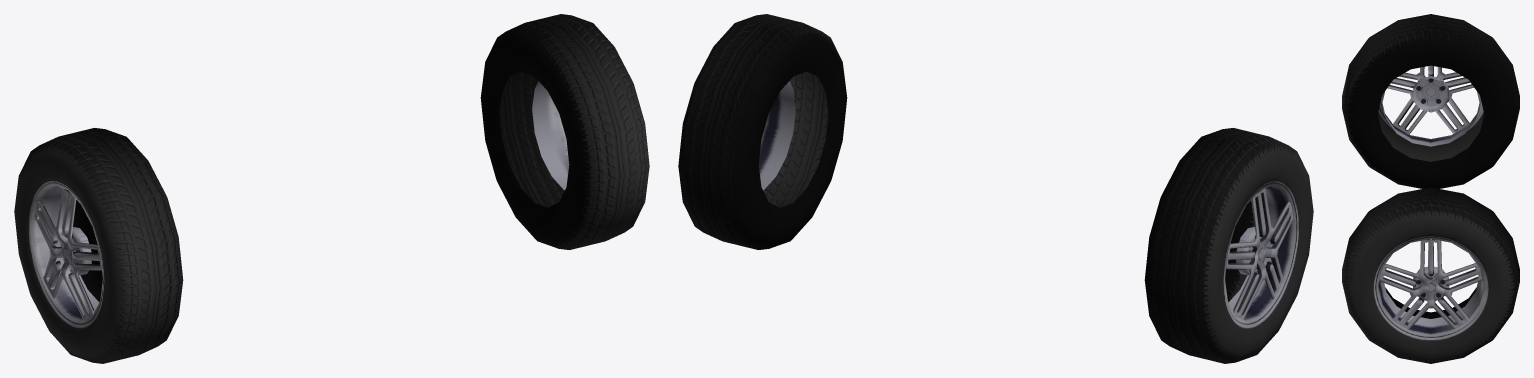
Rendered from front_wheels.obj.
3 renders of one model, left to right at view 1: azimuth 30°, elevation 25°; view 2: azimuth 150°, elevation 25°; view 3: azimuth 270°, elevation 25°, orthographic. The views are drawn at different scales.
Visible parts, largest first — view 1: wheels_n_acc; view 2: wheels_n_acc; view 3: wheels_n_acc.
Boxes of the visible parts, x1,y1,x2,y2 form: wheels_n_acc: (14,14,649,363); wheels_n_acc: (678,14,1313,363); wheels_n_acc: (1342,14,1519,363).
Size of the model in its own units: 26.94 by 10.12 by 10.12.
